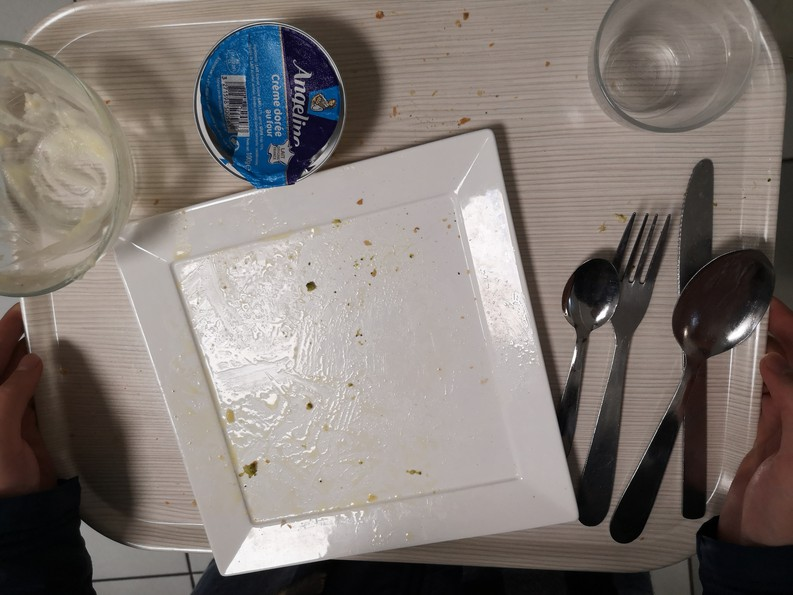cup: (584, 1, 785, 131)
cutlery: (529, 156, 786, 546)
trash: (162, 12, 360, 195)
